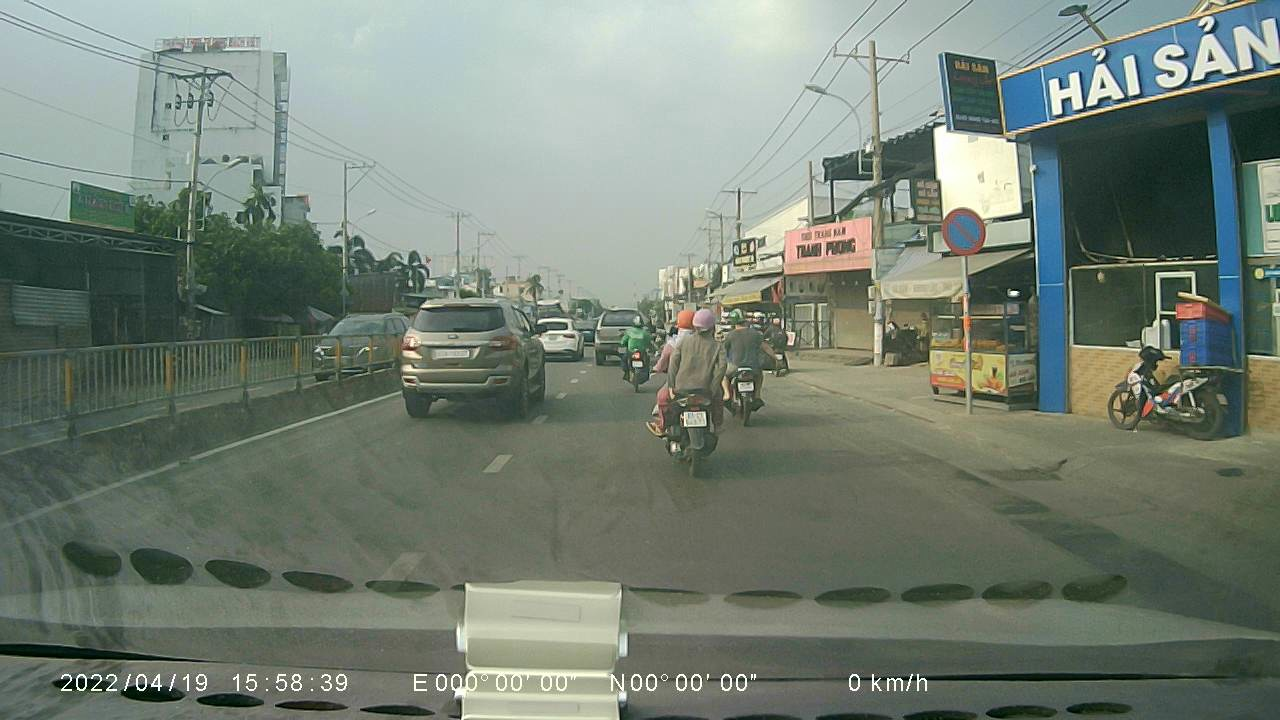Cam do xe: (938, 204, 986, 259)
